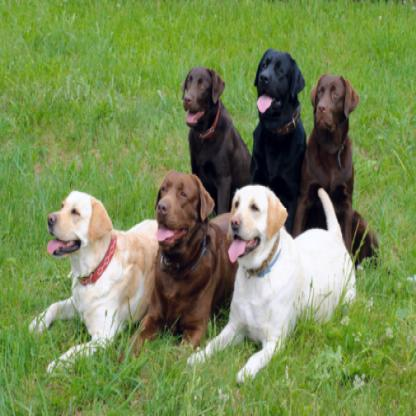dog: (186, 181, 358, 372), (31, 190, 158, 358), (130, 171, 235, 353), (295, 70, 381, 264), (179, 64, 255, 187), (246, 47, 308, 188)
